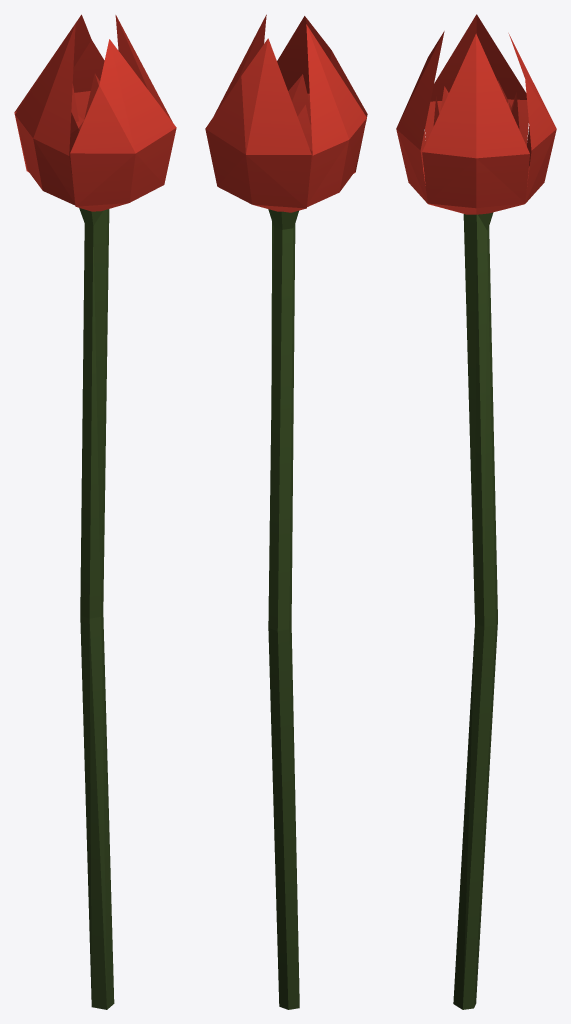
File: Env_Tulip_Low_Detail_01.obj
3 views of the same model, side by side, from view 1: azimuth 30°, elevation 25°; view 2: azimuth 150°, elevation 25°; view 3: azimuth 270°, elevation 25° (orthographic).
Parts seen in each view (by area): view 1: Env_Tulip_Low_Detail_01; view 2: Env_Tulip_Low_Detail_01; view 3: Env_Tulip_Low_Detail_01.
Part boxes in pixels (x1,y1,x2,y2): Env_Tulip_Low_Detail_01: [14, 14, 176, 1009]; Env_Tulip_Low_Detail_01: [205, 14, 367, 1009]; Env_Tulip_Low_Detail_01: [396, 14, 556, 1009].
Bounding box in the file's own units: 0.066 × 0.4978 × 0.0739.
1 material, 1 textured.
